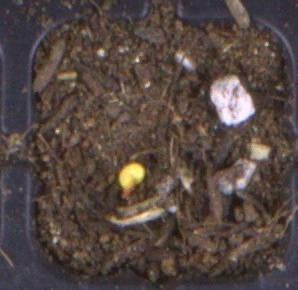chilli seed: (117, 162, 146, 190)
